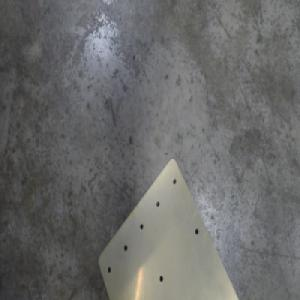MetalSheet: (97, 152, 244, 300)
